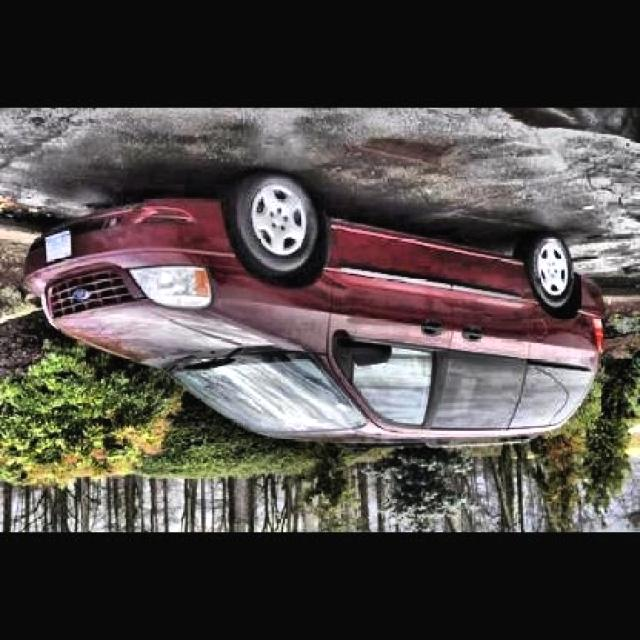maroon: (48, 185, 599, 446)
